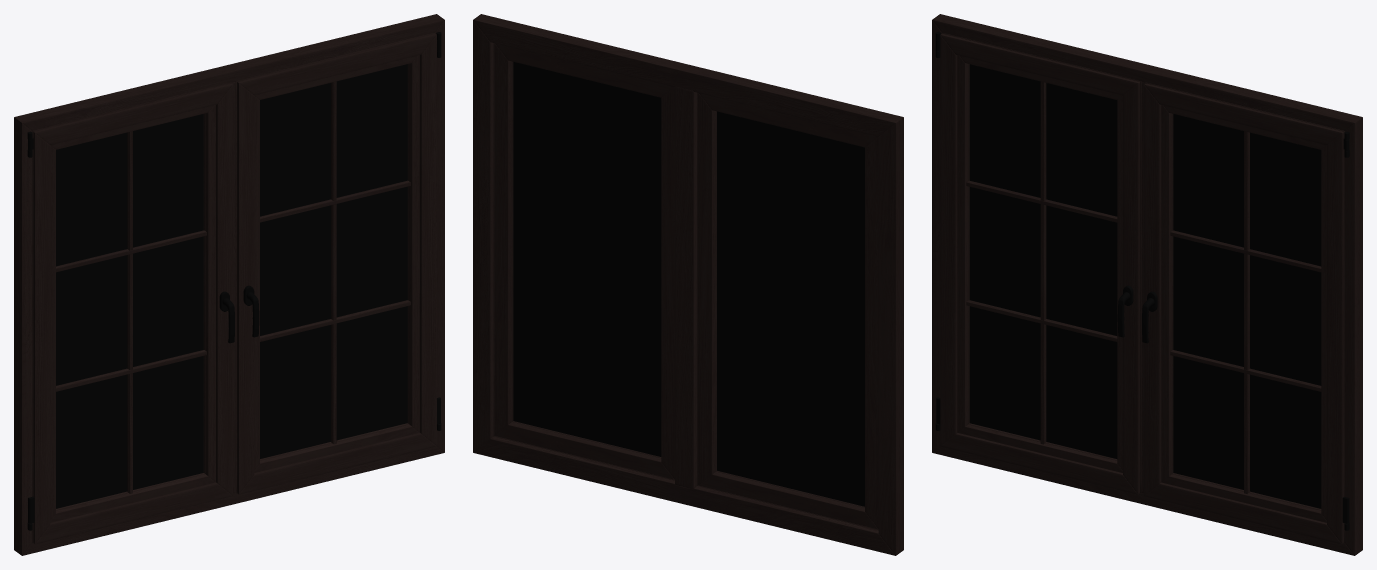
Rendered from window.FBX.
3 renders of one model, left to right at view 1: azimuth 30°, elevation 25°; view 2: azimuth 150°, elevation 25°; view 3: azimuth 330°, elevation 25°, orthographic.
Visible parts, largest first — view 1: AM109_010_02, AM109_010_01, AM109_010_00; view 2: AM109_010_02, AM109_010_01, AM109_010_00; view 3: AM109_010_02, AM109_010_01, AM109_010_00.
Part boxes in pixels (x1,y1,x2,y2): AM109_010_02: (28,83,234,544); AM109_010_01: (237,33,440,494); AM109_010_00: (14,14,444,555); AM109_010_02: (697,93,878,529); AM109_010_01: (494,43,674,479); AM109_010_00: (473,14,903,555); AM109_010_02: (936,33,1140,494); AM109_010_01: (1142,83,1349,544); AM109_010_00: (932,14,1362,555).
Size of the model in its own units: 1607 by 1573 by 127.
